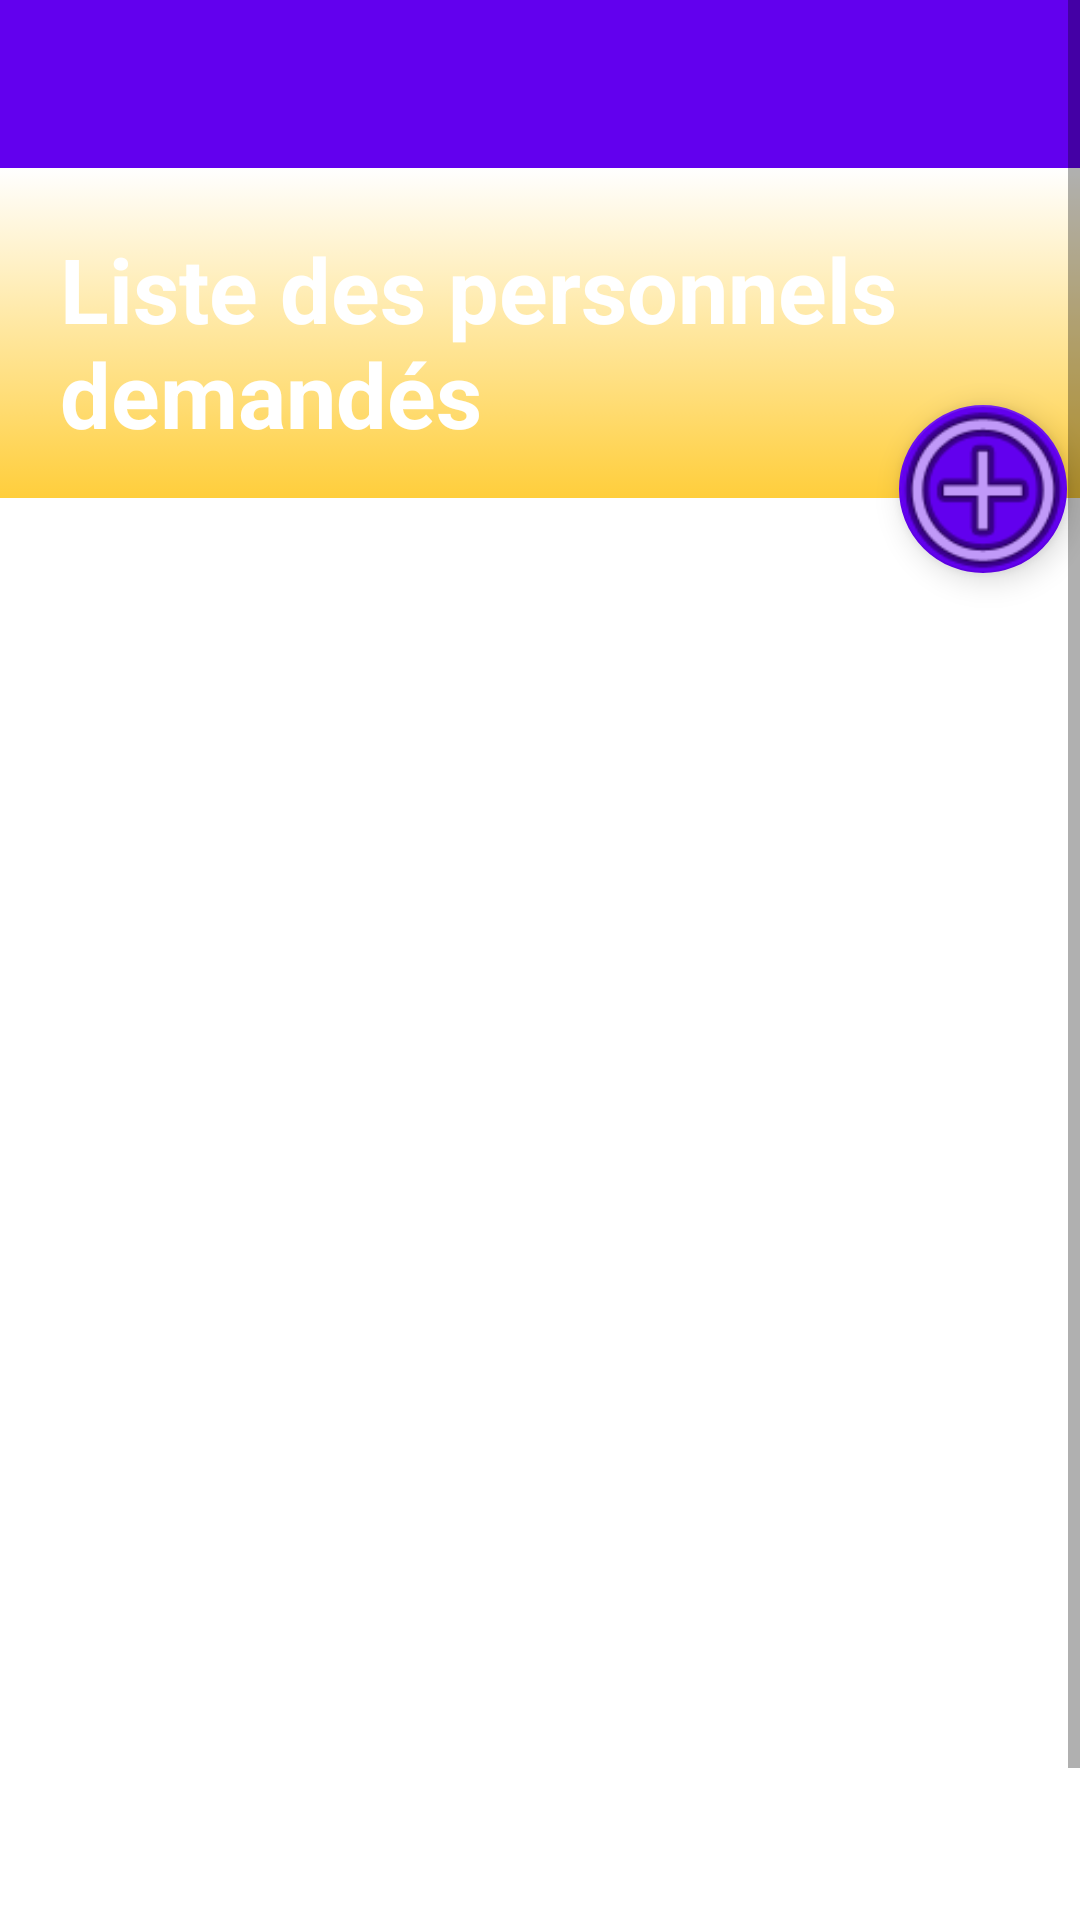

Point at icon controls on the screen. Image size 1080px x 1920px, points as point (x, y).
add: point (983, 489)
